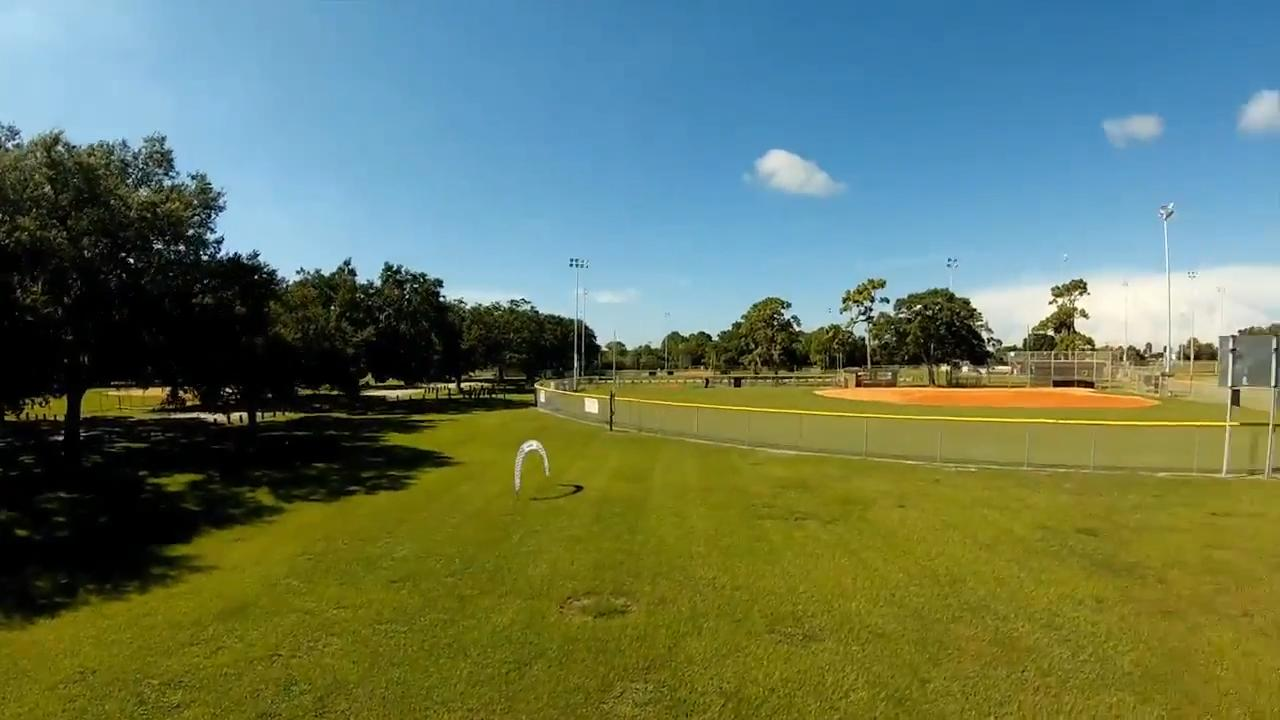gate: (514, 439, 548, 496)
